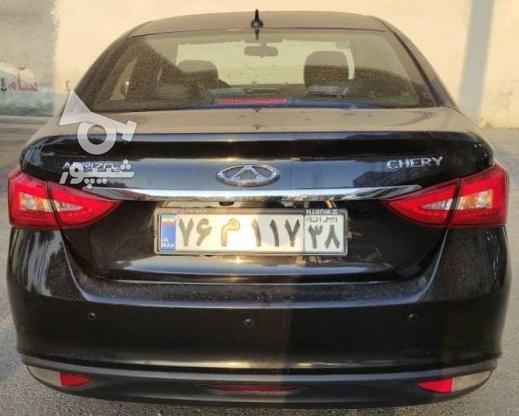car: (152, 210, 352, 257)
